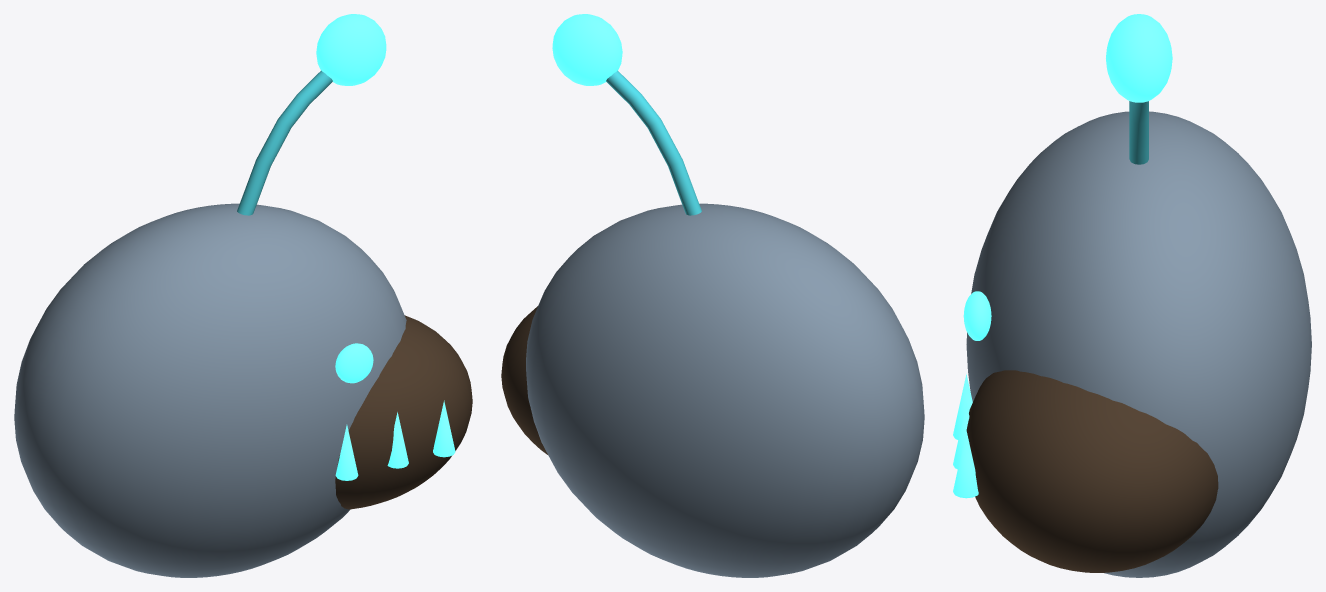
Rendered from aquatic_v3.glb.
The picture shows the model from 3 angles, left to right: view 1: azimuth 30°, elevation 25°; view 2: azimuth 150°, elevation 25°; view 3: azimuth 270°, elevation 25°; orthographic projection. The views are drawn at different scales.
Visible parts, largest first — view 1: ANGLER_BODY_PRIMARY, ANGLER_JAW_SECONDARY, LURE_LIGHT_EMISSIVE, ANGLER_LURE_ACCENT, EYE_EMISSIVE, ANGLER_TOOTH_EMISSIVE, ANGLER_TOOTH_EMISSIVE.002, ANGLER_TOOTH_EMISSIVE.001; view 2: ANGLER_BODY_PRIMARY, LURE_LIGHT_EMISSIVE, ANGLER_LURE_ACCENT, ANGLER_JAW_SECONDARY; view 3: ANGLER_BODY_PRIMARY, ANGLER_JAW_SECONDARY, LURE_LIGHT_EMISSIVE, ANGLER_LURE_ACCENT, EYE_EMISSIVE, ANGLER_TOOTH_EMISSIVE.002, ANGLER_TOOTH_EMISSIVE.
Boxes of the visible parts, <box> form: ANGLER_BODY_PRIMARY: <box>14,203,406,577</box>; ANGLER_JAW_SECONDARY: <box>335,315,472,509</box>; LURE_LIGHT_EMISSIVE: <box>316,14,386,85</box>; ANGLER_LURE_ACCENT: <box>237,70,332,215</box>; EYE_EMISSIVE: <box>335,343,373,383</box>; ANGLER_TOOTH_EMISSIVE: <box>335,424,358,480</box>; ANGLER_TOOTH_EMISSIVE.002: <box>433,400,455,457</box>; ANGLER_TOOTH_EMISSIVE.001: <box>387,412,408,468</box>; ANGLER_BODY_PRIMARY: <box>526,203,924,577</box>; LURE_LIGHT_EMISSIVE: <box>552,14,622,85</box>; ANGLER_LURE_ACCENT: <box>606,70,701,215</box>; ANGLER_JAW_SECONDARY: <box>501,306,547,454</box>; ANGLER_BODY_PRIMARY: <box>966,111,1311,577</box>; ANGLER_JAW_SECONDARY: <box>966,370,1218,572</box>; LURE_LIGHT_EMISSIVE: <box>1106,14,1172,102</box>; ANGLER_LURE_ACCENT: <box>1129,101,1148,164</box>; EYE_EMISSIVE: <box>963,291,991,340</box>; ANGLER_TOOTH_EMISSIVE.002: <box>953,430,978,498</box>; ANGLER_TOOTH_EMISSIVE: <box>953,374,972,439</box>.
Bounding box in the file's own units: 2.05 × 2.43 × 1.29.
